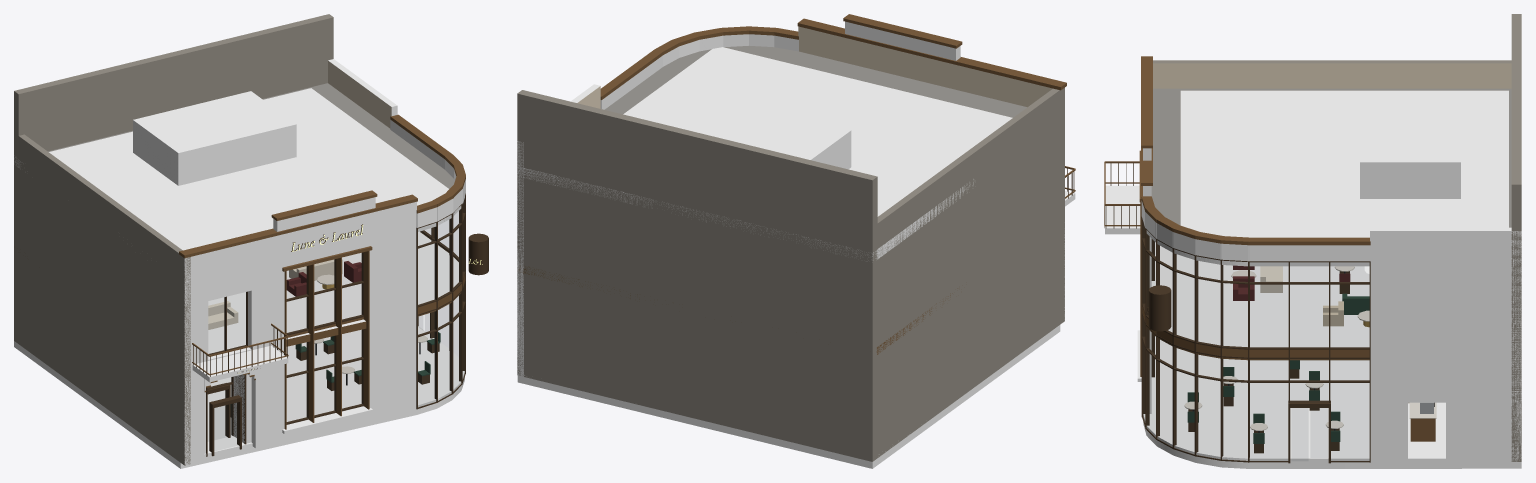
The model's file is lune_and_laurel_lod1.glb.
3 renders of one model, left to right at view 1: azimuth 30°, elevation 25°; view 2: azimuth 150°, elevation 25°; view 3: azimuth 270°, elevation 25°, orthographic. The views are drawn at different scales.
Parts seen in each view (by area): view 1: B03_LOD1_BUILDING_EXTERIOR_Stone, B03_LOD1_BUILDING_EXTERIOR_Roof, B03_LOD1_BUILDING_EXTERIOR_RearInterface, B03_LOD1_BUILDING_INTERIOR_GroundSlab, B03_LOD1_BUILDING_INTERIOR_FirstSlab, B03_LOD1_FACADE_DETAILS_Bronze, B03_LOD1_GLASS_SYSTEM_TallWindowFrame, B03_LOD1_GLASS_SYSTEM_CornerFrame, B03_LOD1_FURNITURE_Cafe, B03_LOD1_FACADE_DETAILS_CornerBands, B03_LOD1_GLASS_SYSTEM_CornerGlass, B03_LOD1_GLASS_SYSTEM_BalconyDoorFrame (+3 smaller); view 2: B03_LOD1_BUILDING_EXTERIOR_Stone, B03_LOD1_BUILDING_EXTERIOR_RearInterface, B03_LOD1_BUILDING_EXTERIOR_Roof, B03_LOD1_FACADE_DETAILS_CornerBands, B03_LOD1_BUILDING_INTERIOR_GroundSlab, B03_LOD1_FACADE_DETAILS_Bronze; view 3: B03_LOD1_BUILDING_EXTERIOR_Roof, B03_LOD1_BUILDING_EXTERIOR_Stone, B03_LOD1_BUILDING_INTERIOR_GroundSlab, B03_LOD1_BUILDING_INTERIOR_FirstSlab, B03_LOD1_GLASS_SYSTEM_CornerFrame, B03_LOD1_FACADE_DETAILS_CornerBands, B03_LOD1_FURNITURE_Cafe, B03_LOD1_BUILDING_EXTERIOR_RearInterface, B03_LOD1_FACADE_DETAILS_Bronze, B03_LOD1_DISPLAY_OBJECTS_Pastry, B03_LOD1_SIGNAGE_Blade, B03_LOD1_FACADE_DETAILS_BalconyRail (+1 smaller).
Boxes of the visible parts, left/top/right/bottom form: B03_LOD1_BUILDING_EXTERIOR_Stone: left=14, top=59, right=416, bottom=465; B03_LOD1_BUILDING_EXTERIOR_Roof: left=14, top=83, right=464, bottom=250; B03_LOD1_BUILDING_EXTERIOR_RearInterface: left=14, top=14, right=333, bottom=343; B03_LOD1_BUILDING_INTERIOR_GroundSlab: left=14, top=326, right=464, bottom=468; B03_LOD1_BUILDING_INTERIOR_FirstSlab: left=208, top=231, right=461, bottom=353; B03_LOD1_FACADE_DETAILS_Bronze: left=179, top=190, right=417, bottom=434; B03_LOD1_GLASS_SYSTEM_TallWindowFrame: left=284, top=251, right=369, bottom=429; B03_LOD1_GLASS_SYSTEM_CornerFrame: left=416, top=193, right=465, bottom=409; B03_LOD1_FURNITURE_Cafe: left=208, top=259, right=440, bottom=417; B03_LOD1_FACADE_DETAILS_CornerBands: left=390, top=114, right=465, bottom=227; B03_LOD1_GLASS_SYSTEM_CornerGlass: left=418, top=212, right=458, bottom=356; B03_LOD1_GLASS_SYSTEM_BalconyDoorFrame: left=208, top=291, right=247, bottom=456; B03_LOD1_BUILDING_EXTERIOR_Stone: left=517, top=21, right=1064, bottom=461; B03_LOD1_BUILDING_EXTERIOR_RearInterface: left=517, top=90, right=877, bottom=458; B03_LOD1_BUILDING_EXTERIOR_Roof: left=518, top=46, right=1026, bottom=262; B03_LOD1_FACADE_DETAILS_CornerBands: left=600, top=26, right=798, bottom=109; B03_LOD1_BUILDING_INTERIOR_GroundSlab: left=517, top=325, right=1060, bottom=468; B03_LOD1_FACADE_DETAILS_Bronze: left=797, top=14, right=1075, bottom=206; B03_LOD1_BUILDING_EXTERIOR_Roof: left=1144, top=88, right=1511, bottom=266; B03_LOD1_BUILDING_EXTERIOR_Stone: left=1143, top=60, right=1521, bottom=461; B03_LOD1_BUILDING_INTERIOR_GroundSlab: left=1143, top=336, right=1521, bottom=468; B03_LOD1_BUILDING_INTERIOR_FirstSlab: left=1147, top=242, right=1369, bottom=360; B03_LOD1_GLASS_SYSTEM_CornerFrame: left=1141, top=217, right=1370, bottom=463; B03_LOD1_FACADE_DETAILS_CornerBands: left=1141, top=196, right=1370, bottom=261; B03_LOD1_FURNITURE_Cafe: left=1184, top=265, right=1369, bottom=453; B03_LOD1_BUILDING_EXTERIOR_RearInterface: left=1511, top=14, right=1521, bottom=461; B03_LOD1_FACADE_DETAILS_Bronze: left=1105, top=56, right=1152, bottom=381; B03_LOD1_DISPLAY_OBJECTS_Pastry: left=1408, top=402, right=1436, bottom=441; B03_LOD1_SIGNAGE_Blade: left=1146, top=285, right=1171, bottom=331; B03_LOD1_FACADE_DETAILS_BalconyRail: left=1104, top=161, right=1140, bottom=228.
Bounding box in the file's own units: 16.17 × 12.42 × 16.53.
